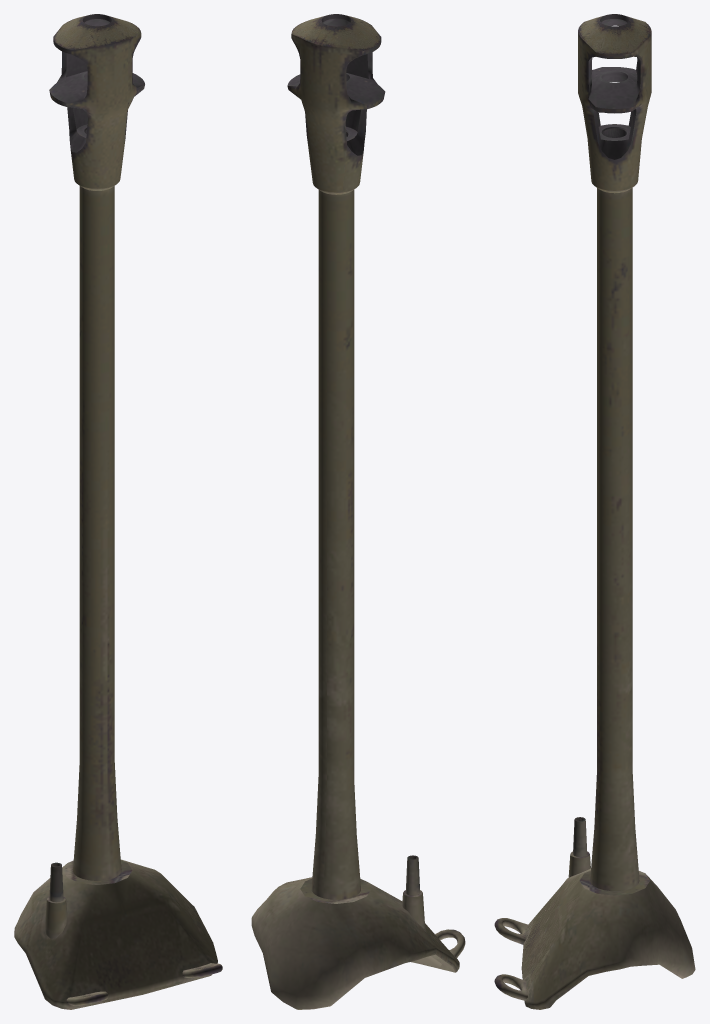
The model's file is Gun_07.glb.
The picture shows the model from 3 angles, left to right: view 1: azimuth 30°, elevation 25°; view 2: azimuth 150°, elevation 25°; view 3: azimuth 270°, elevation 25°; orthographic projection. The views are drawn at different scales.
Parts seen in each view (by area): view 1: set_0_group_0; view 2: set_0_group_0; view 3: set_0_group_0.
Boxes of the visible parts, box(x1,y1,x2,y2) form: set_0_group_0: box(14, 14, 222, 1009); set_0_group_0: box(251, 14, 465, 1009); set_0_group_0: box(494, 14, 695, 1009).
Size of the model in its own units: 0.7462 by 3.92 by 0.7505.
Materials: 1 (1 with a texture image).
